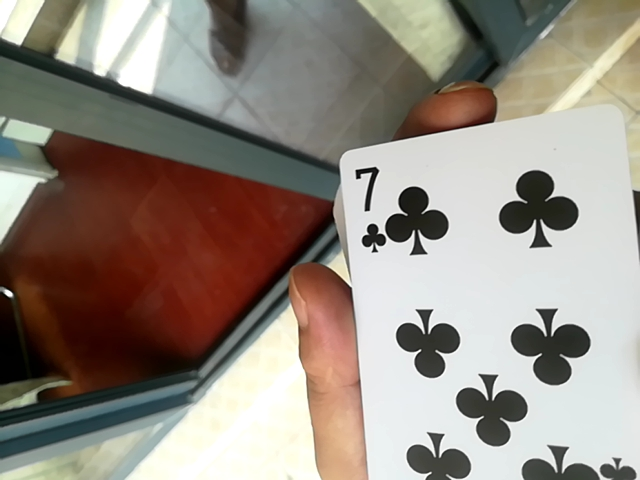mh 7: (324, 116, 640, 478)
